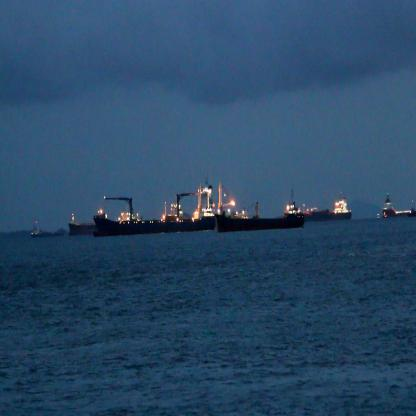Container Ship: (93, 182, 216, 236), (216, 182, 306, 231), (305, 196, 353, 222), (383, 190, 415, 219), (68, 211, 96, 237), (30, 221, 66, 238), (382, 212, 390, 220)
